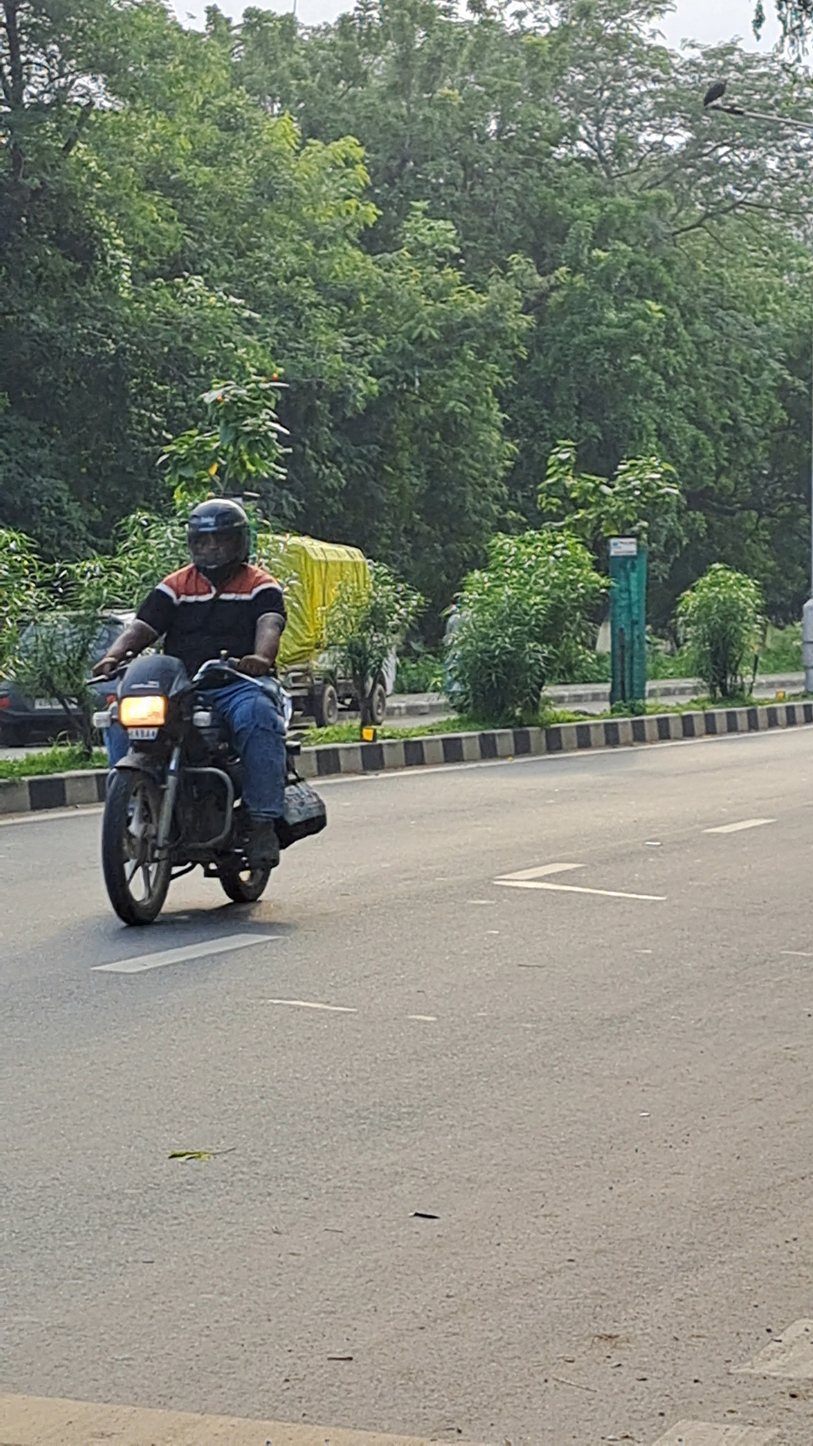BikeWithRider: (54, 489, 383, 935)
Helmet: (164, 489, 264, 583)
